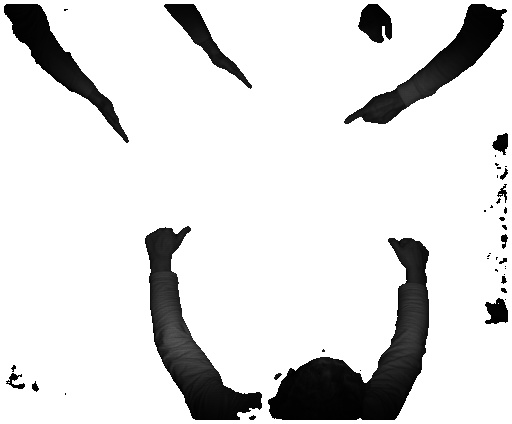hand: (384, 232, 431, 281), (144, 224, 191, 267), (344, 94, 403, 127), (352, 9, 391, 47)
spine: (212, 51, 255, 95), (96, 97, 135, 143)
